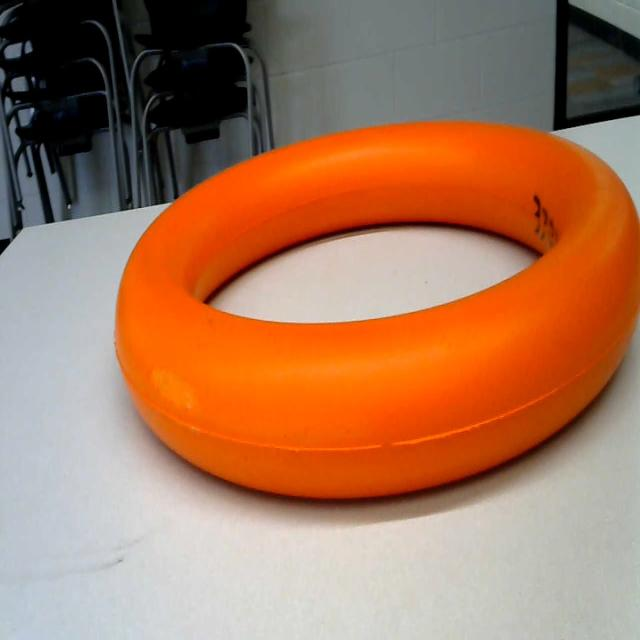note: (81, 98, 640, 518)
